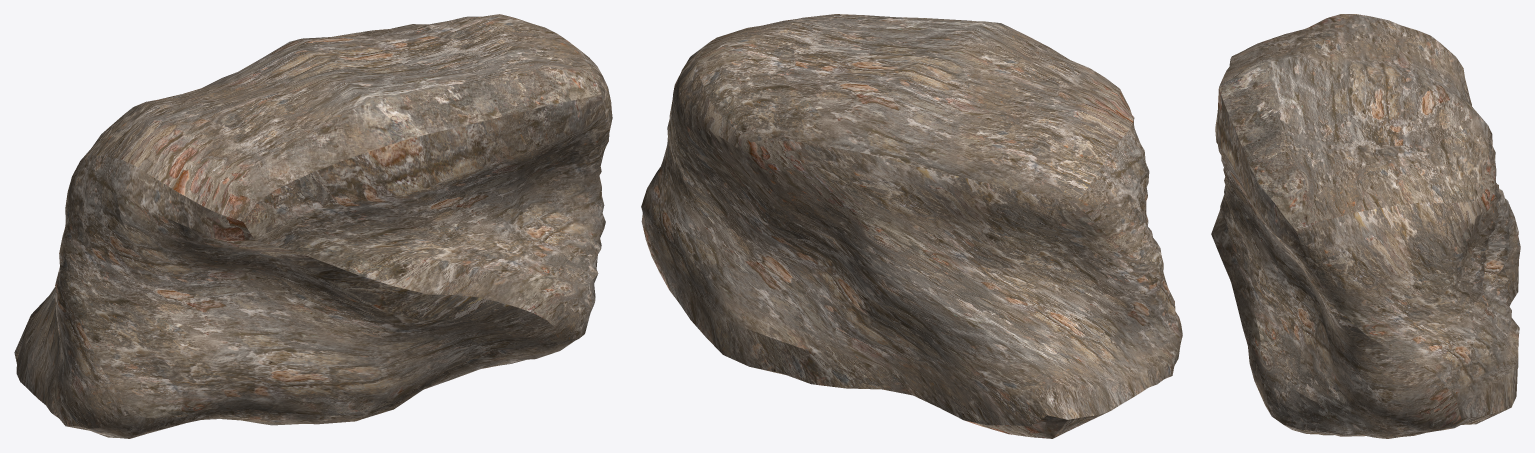
Rendered from low_poly_rock_3d_model.glb.
The picture shows the model from 3 angles, left to right: view 1: azimuth 30°, elevation 25°; view 2: azimuth 150°, elevation 25°; view 3: azimuth 270°, elevation 25°; orthographic projection. The views are drawn at different scales.
Parts seen in each view (by area): view 1: rock; view 2: rock; view 3: rock.
Boxes of the visible parts, left/top/right/bottom form: rock: left=14, top=14, right=612, bottom=438; rock: left=641, top=14, right=1182, bottom=438; rock: left=1211, top=14, right=1520, bottom=438.
Size of the model in its own units: 2.17 by 1.31 by 1.16.
1 material, 1 textured.
